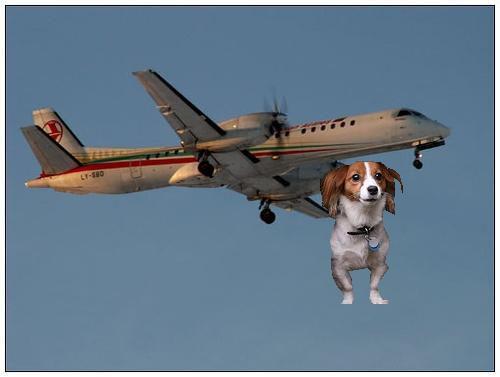tampered: (321, 162, 403, 304)
